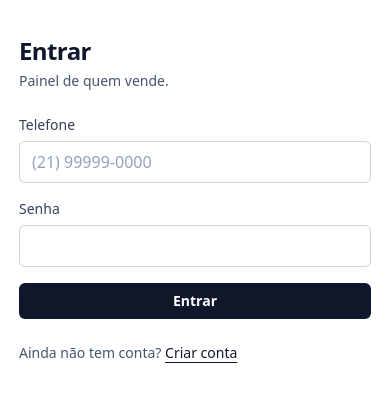
Test: EntrarPage › o 401 do login mostra o detail do servidor, e não um texto inventado
The image size is (391, 407).
Type "21999990000" into the field labelled "Telefone" at [195, 162], box left=19, top=141, right=371, bottom=183
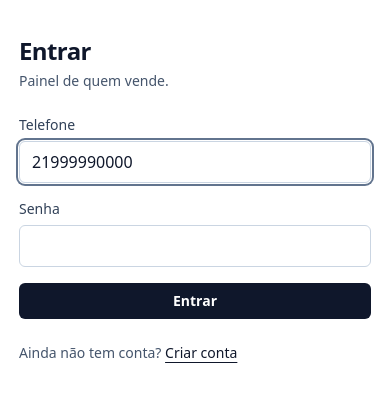
Type "errada12" into the password field labelled "Senha" at [195, 246], box left=19, top=225, right=371, bottom=267
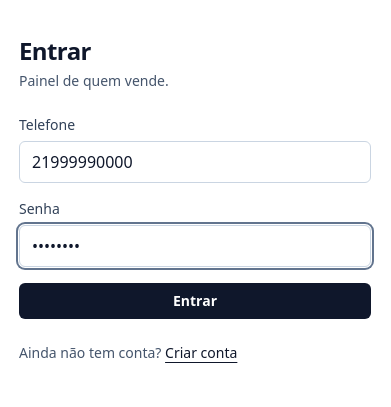
Click the button "Entrar" at [195, 301], box left=19, top=283, right=371, bottom=319
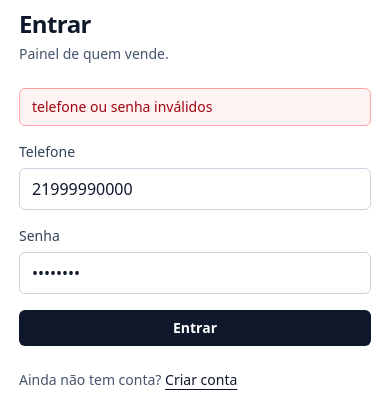
Expected: the message reads "telefone ou senha inválidos", left=32, top=97, right=212, bottom=116
